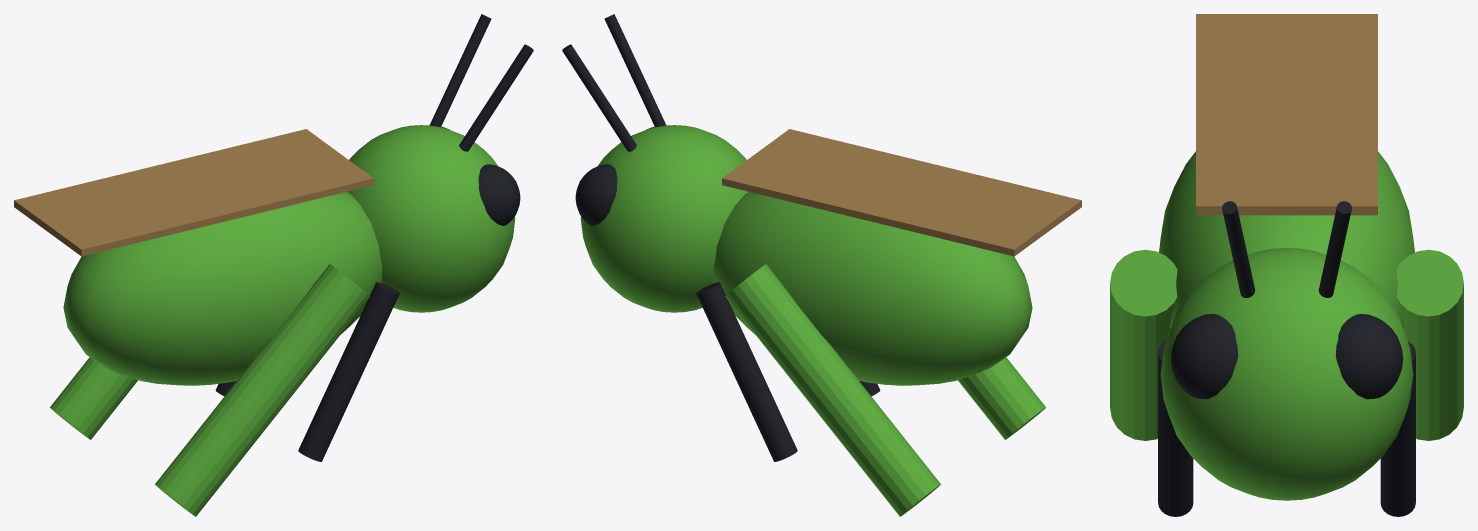
File: hopper.glb
The picture shows the model from 3 angles, left to right: view 1: azimuth 30°, elevation 25°; view 2: azimuth 150°, elevation 25°; view 3: azimuth 270°, elevation 25°; orthographic projection. The views are drawn at different scales.
Visible parts, largest first — view 1: Sphere, Cube, Sphere.002; view 2: Sphere, Cube, Sphere.002; view 3: Sphere, Cube, Sphere.002.
Boxes of the visible parts, x1,y1,x2,y2 form: Sphere: (50,125,515,516); Cube: (14,129,373,256); Sphere.002: (215,14,533,461); Sphere: (580,125,1045,516); Cube: (722,129,1081,256); Sphere.002: (562,14,880,461); Sphere: (1110,151,1463,500); Cube: (1196,14,1377,215); Sphere.002: (1158,201,1415,516).
Size of the model in its own units: 1.43 by 1.05 by 0.7.
